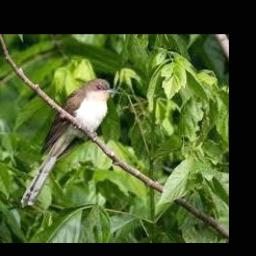Cuckoo: (19, 78, 116, 207)
